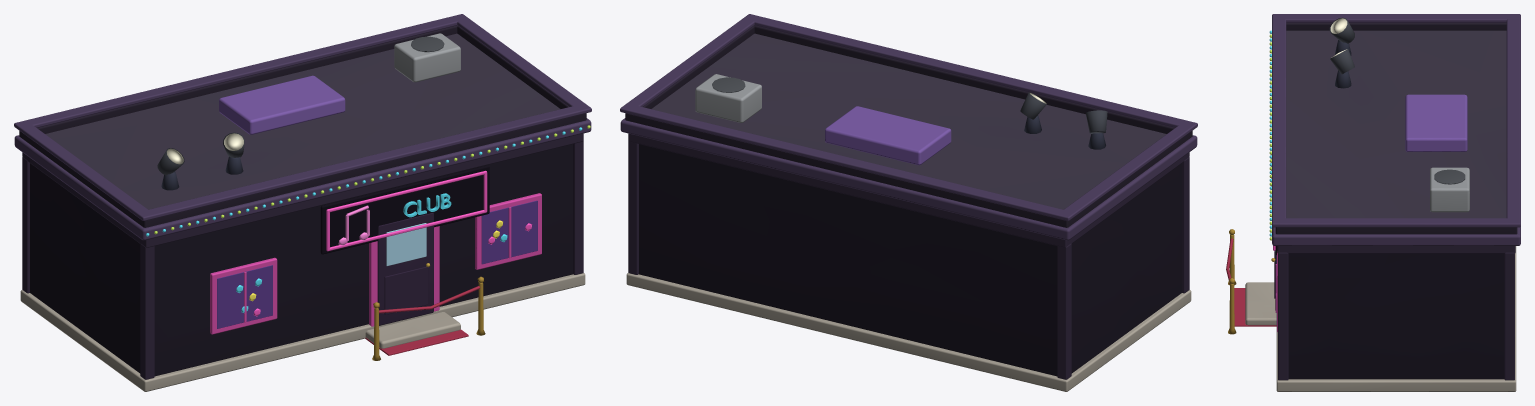
Rendered from bld_club.glb.
3 renders of one model, left to right at view 1: azimuth 30°, elevation 25°; view 2: azimuth 150°, elevation 25°; view 3: azimuth 270°, elevation 25°, orthographic. The views are drawn at different scales.
Parts seen in each view (by area): view 1: bld_club_main, bld_club_glass, bld_club_glow, Text.011; view 2: bld_club_main, bld_club_glass; view 3: bld_club_main, bld_club_glass, bld_club_glow.
Boxes of the visible parts, x1,y1,x2,y2 form: bld_club_main: (14, 14, 591, 391); bld_club_glass: (217, 75, 537, 328); bld_club_glow: (146, 125, 590, 316); Text.011: (403, 193, 451, 217); bld_club_main: (620, 14, 1197, 391); bld_club_glass: (825, 106, 951, 165); bld_club_main: (1226, 14, 1520, 391); bld_club_glass: (1274, 94, 1467, 325); bld_club_glow: (1269, 18, 1347, 298).
Bounding box in the file's own units: 5.6 × 2.42 × 3.32.
